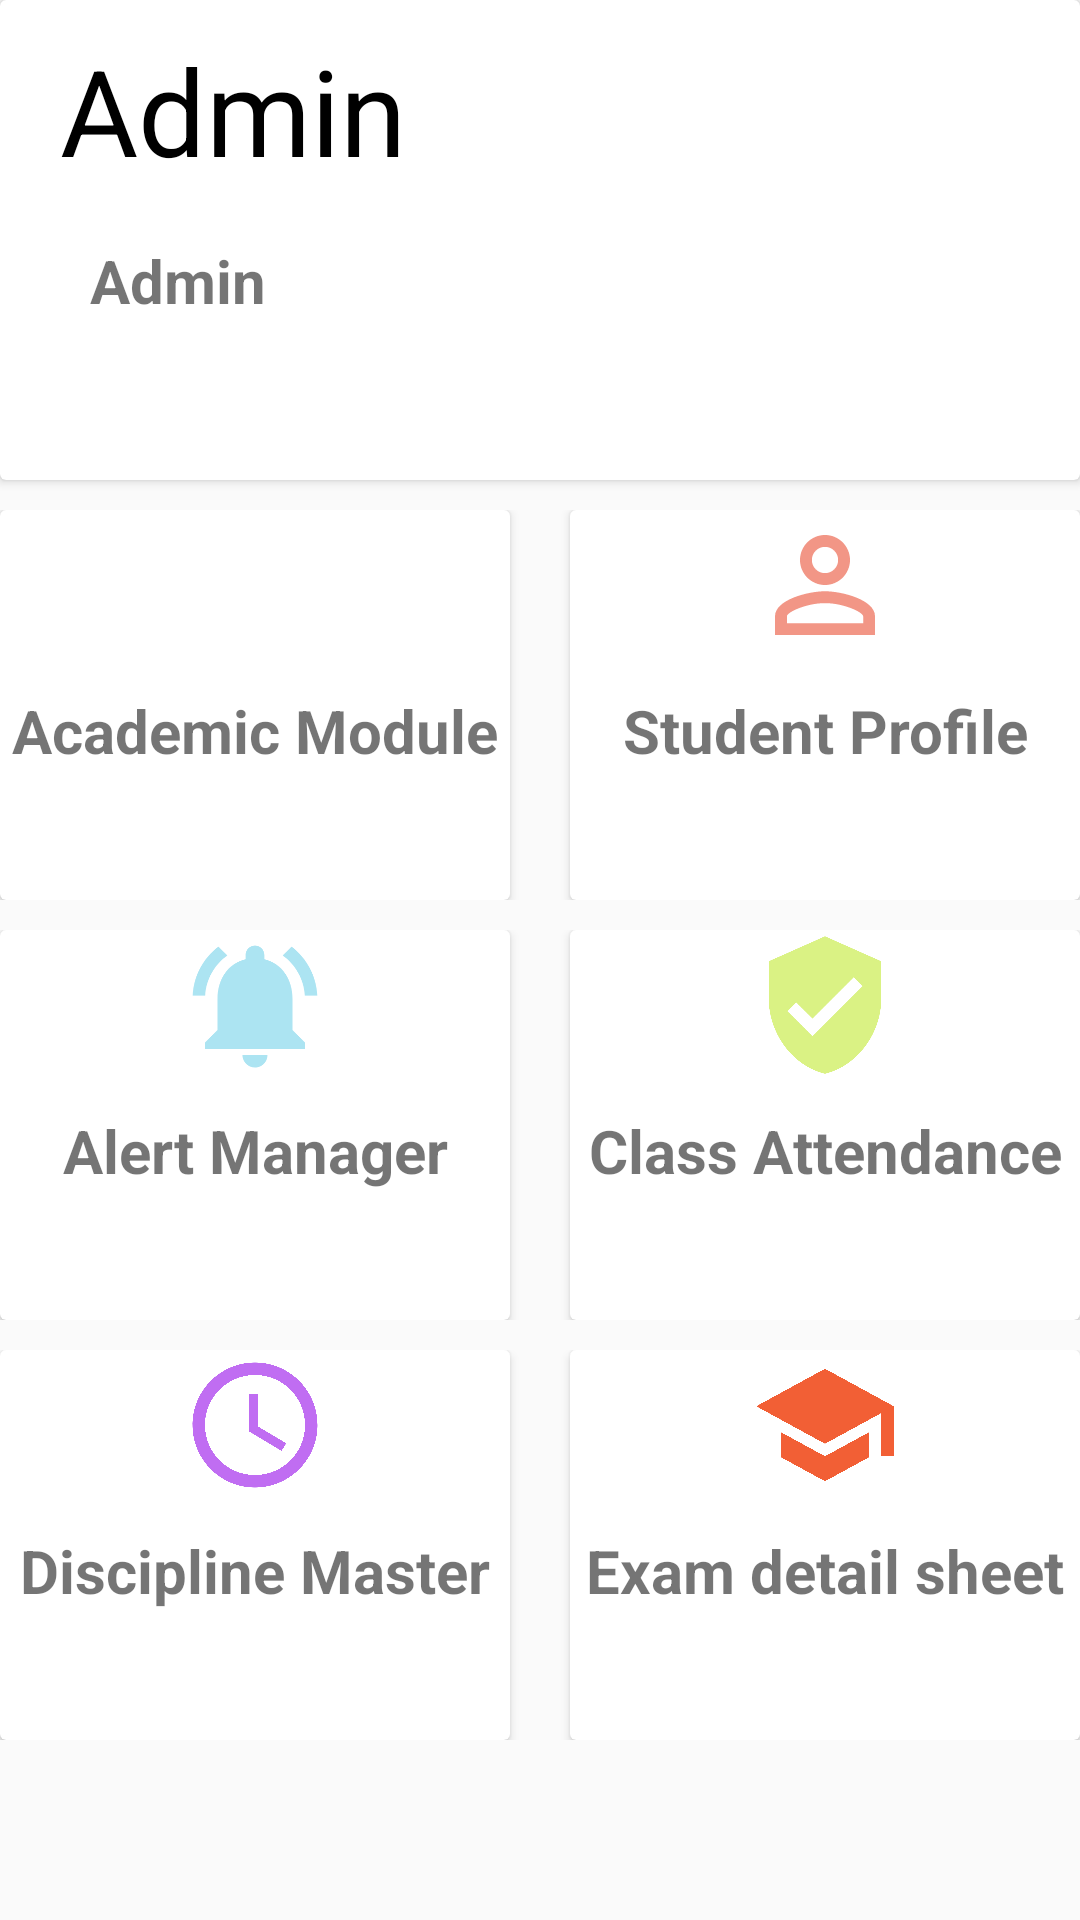

Where to tap for icons on this 1080 x 1920 app screen, as [x,y]:
notifications: [255,1006]
person: [825,585]
schedule: [255,1425]
school: [825,1425]
verified user: [825,1005]
